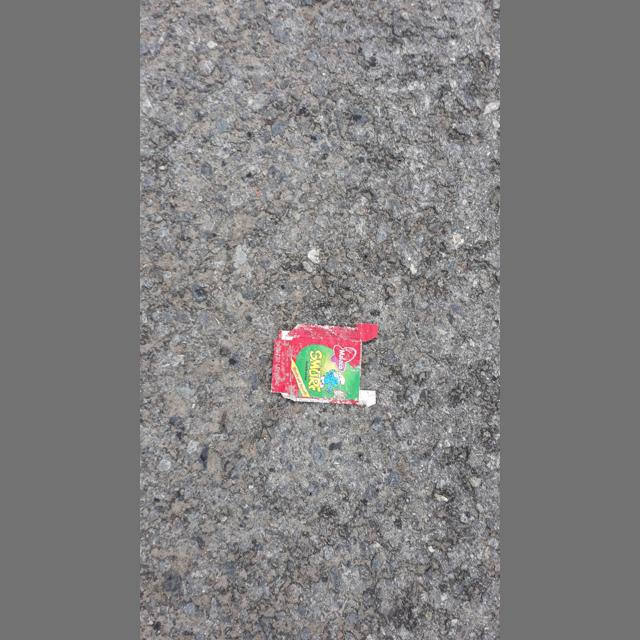litter: (271, 323, 378, 407)
